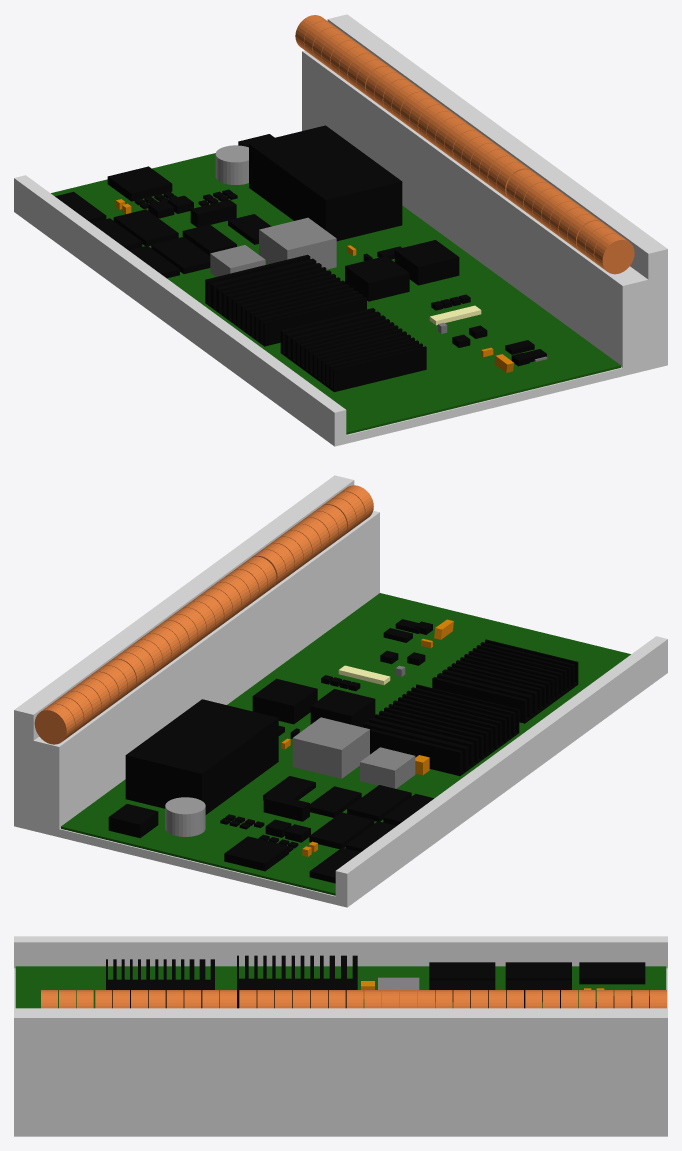
File: MatrixN.fbx
3 renders of one model, top to bottom at view 1: azimuth 30°, elevation 25°; view 2: azimuth 150°, elevation 25°; view 3: azimuth 270°, elevation 25°, orthographic.
Parts seen in each view (by area): view 1: Cube, Cube.001, Cube.021, Cube.010, Cube.011, Cube.019, Cube.017, Cube.018, Cube.047, Cube.030, Cube.032, Cylinder (+8 smaller); view 2: Cube, Cube.001, Cube.021, Cube.010, Cube.011, Cube.019, Cube.018, Cube.020, Cube.017, Cube.047, Cylinder, Cube.030 (+9 smaller); view 3: Cube, Cube.001, Cube.010, Cube.011, Cube.031, Cube.029, Cube.033, Cube.032, Cube.030, Cube.020, Cylinder.009, Cylinder.019 (+33 smaller).
Boxes of the visible parts, box(x1,y1,x2,y2) form: Cube: box(14, 14, 667, 446); Cube.001: box(51, 153, 620, 434); Cube.021: box(249, 125, 402, 241); Cube.010: box(205, 254, 366, 346); Cube.011: box(280, 308, 426, 392); Cube.019: box(259, 217, 336, 269); Cube.017: box(345, 256, 409, 301); Cube.018: box(394, 240, 459, 285); Cube.047: box(107, 166, 172, 201); Cube.030: box(113, 209, 178, 246); Cube.032: box(151, 237, 210, 273); Cylinder: box(215, 145, 248, 184); Cube: box(14, 475, 667, 907); Cube.001: box(61, 593, 630, 895); Cube.021: box(125, 699, 278, 814); Cube.010: box(359, 684, 519, 775); Cube.011: box(432, 639, 578, 723); Cube.019: box(292, 717, 369, 778); Cube.018: box(252, 678, 317, 724); Cube.020: box(360, 747, 415, 788); Cube.017: box(310, 689, 375, 726); Cube.047: box(224, 836, 288, 871); Cylinder: box(165, 797, 205, 836); Cube.030: box(309, 812, 374, 849); Cube: box(14, 936, 667, 1136); Cube.001: box(15, 966, 666, 1008); Cube.010: box(237, 955, 357, 1008); Cube.011: box(106, 959, 214, 1008); Cube.031: box(579, 962, 645, 984); Cube.029: box(505, 962, 571, 980); Cube.033: box(429, 962, 495, 980); Cube.032: box(429, 980, 495, 1001); Cube.030: box(505, 980, 571, 1002); Cube.020: box(378, 977, 419, 992); Cylinder.009: box(435, 990, 452, 1008); Cylinder.019: box(239, 990, 256, 1008).
Bounding box in the file's own units: 1118 × 398 × 1863.
